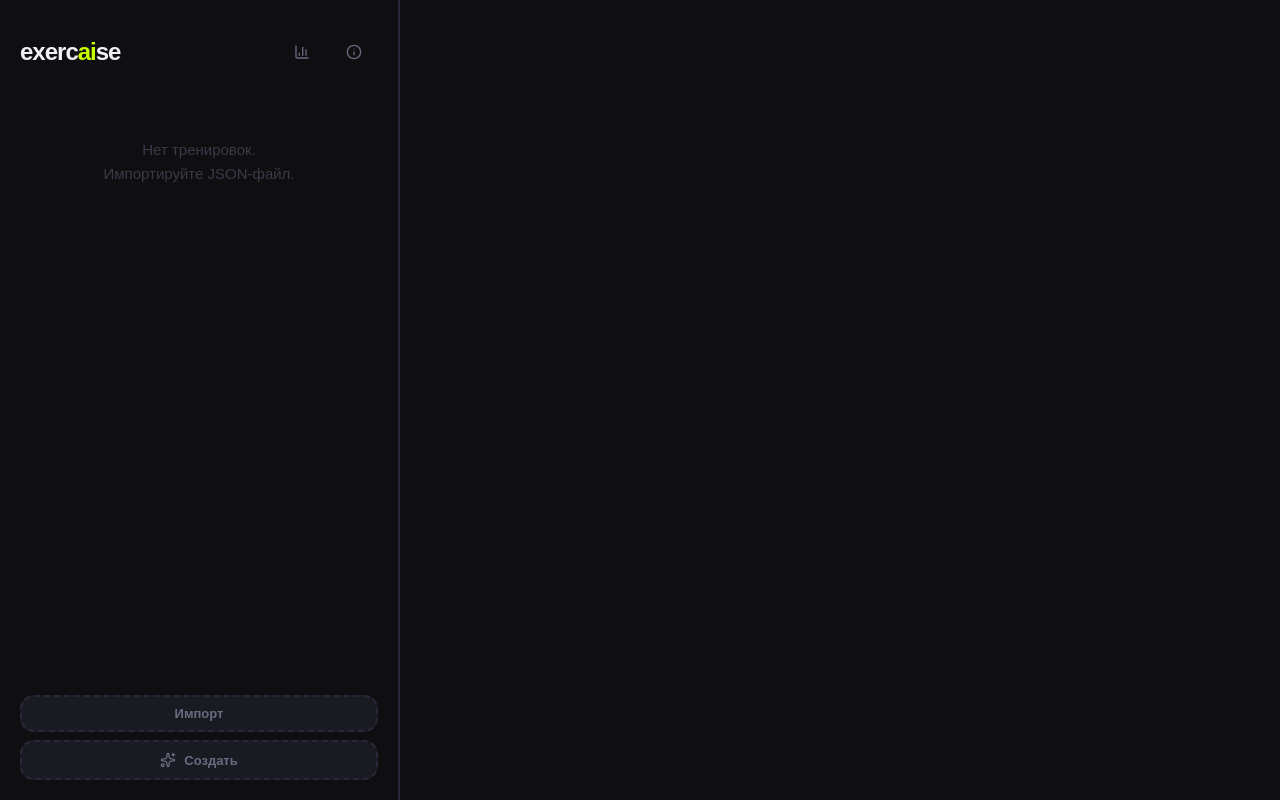
Test: WorkoutList › opens stats modal with heatmap on stats button click
Check: the text "Статистика" is not shown
Step 1. Click the button named "Статистика" → (302, 52), box [278,28,326,76]
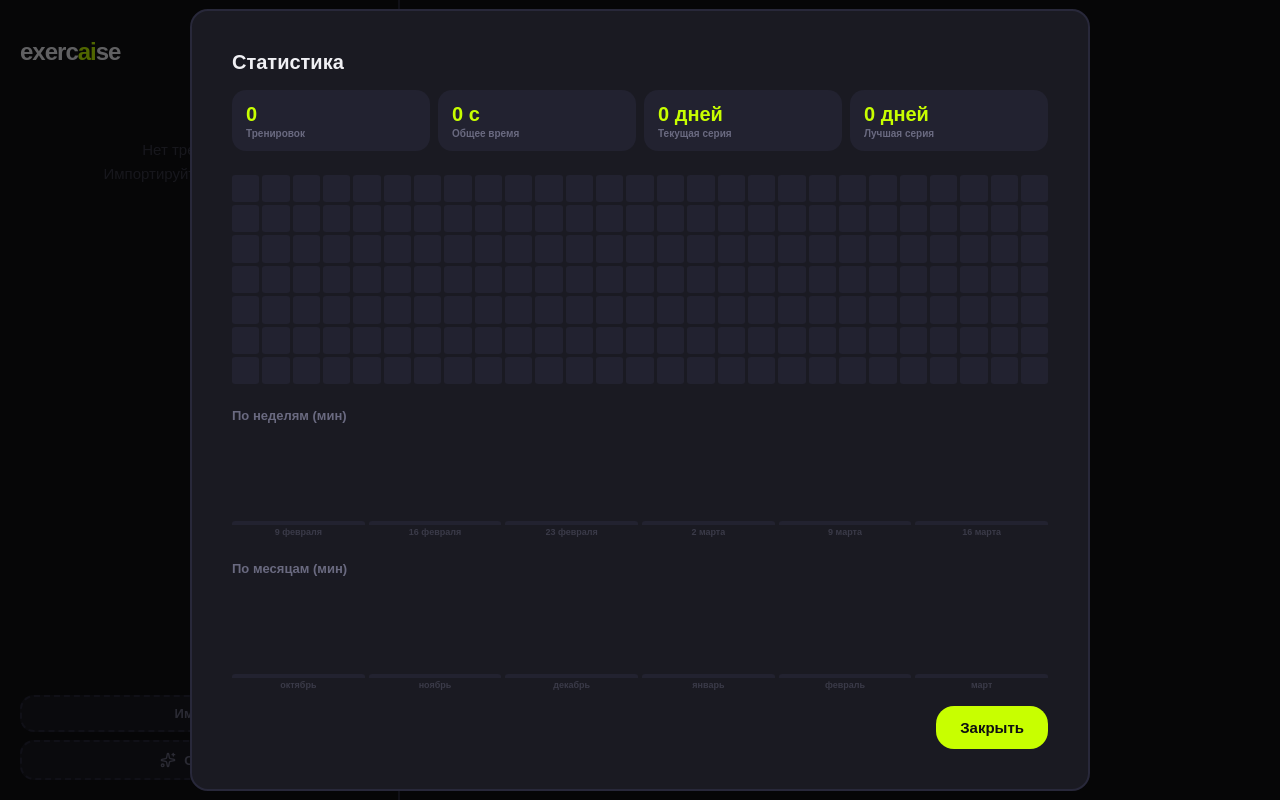
Check: the text "Статистика" is shown, box [232,51,344,74]
